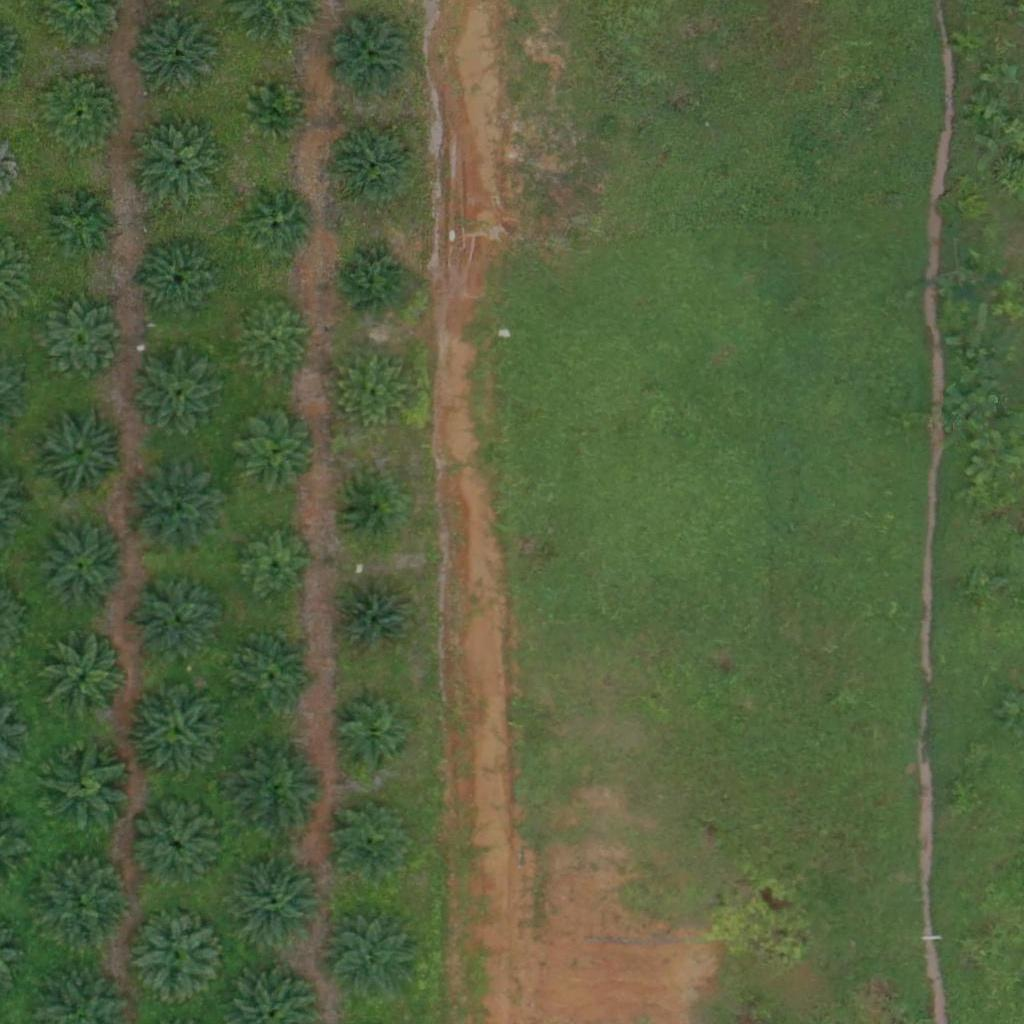Kelapa_Sawit: (123, 460, 223, 561), (28, 291, 128, 392), (28, 401, 128, 502), (32, 847, 132, 948), (128, 907, 228, 1008), (230, 852, 330, 953), (226, 741, 326, 841), (126, 680, 226, 780), (32, 737, 132, 837), (36, 71, 124, 160), (138, 238, 226, 327), (134, 803, 222, 892), (37, 178, 125, 266), (328, 696, 416, 784), (327, 13, 415, 101), (328, 124, 416, 212), (231, 633, 319, 721), (133, 352, 221, 440), (132, 577, 220, 665), (229, 405, 316, 493), (332, 577, 419, 665), (134, 14, 221, 102), (135, 124, 222, 212), (37, 525, 124, 613), (40, 636, 127, 724), (328, 797, 415, 885), (328, 912, 415, 1000), (242, 189, 317, 264), (240, 531, 315, 606), (332, 352, 407, 427), (339, 244, 414, 319), (234, 300, 309, 375), (337, 475, 400, 538), (244, 84, 307, 147)
